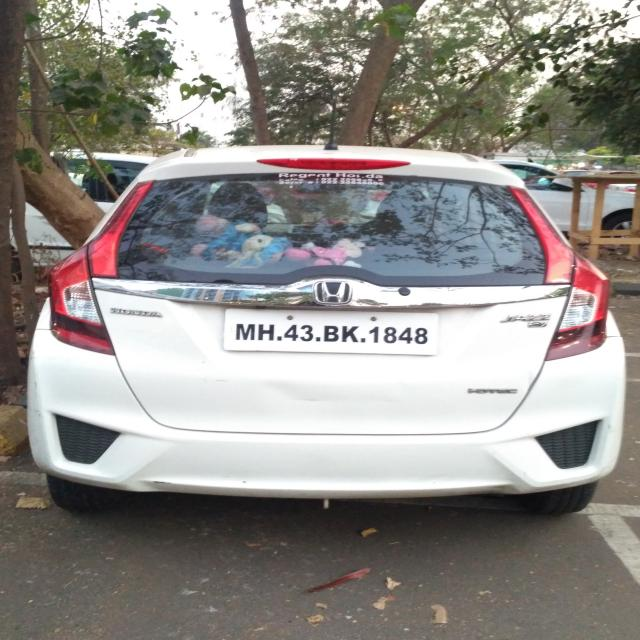Number-Plate: (222, 310, 439, 352)
